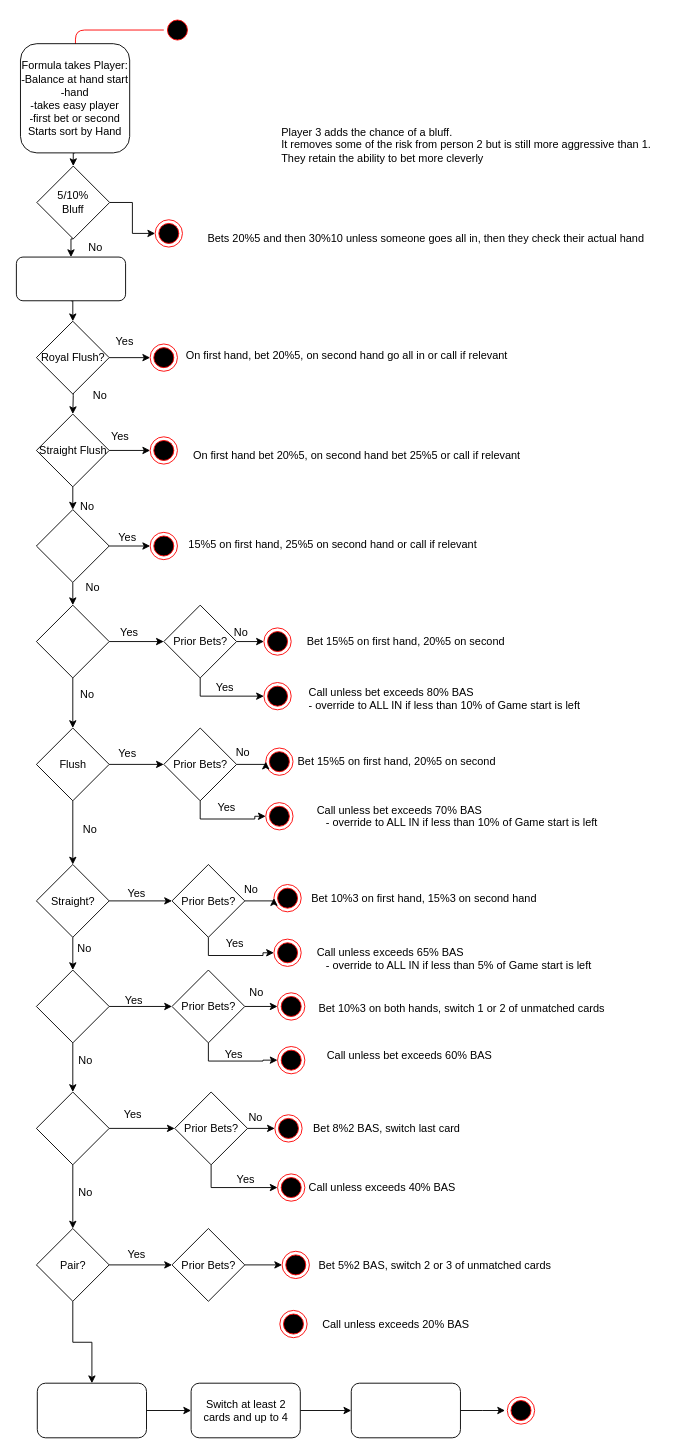
Image size: 677x1453. Some labels were removed from this diagram. Each missing label, with the centre of its shape:
"2 pair?" belongs at point (72, 1128).
"3 of a Kind?" belongs at point (72, 1006).
"Four of a Kind?" belongs at point (72, 545).
"Full House?" belongs at point (72, 641).
"High card Bet only if opening hand does not exceed 5% bet" belongs at point (91, 1410).
"If still high card on second, fold" belongs at point (405, 1410).
"Run Hand Formula" belongs at point (70, 278).
